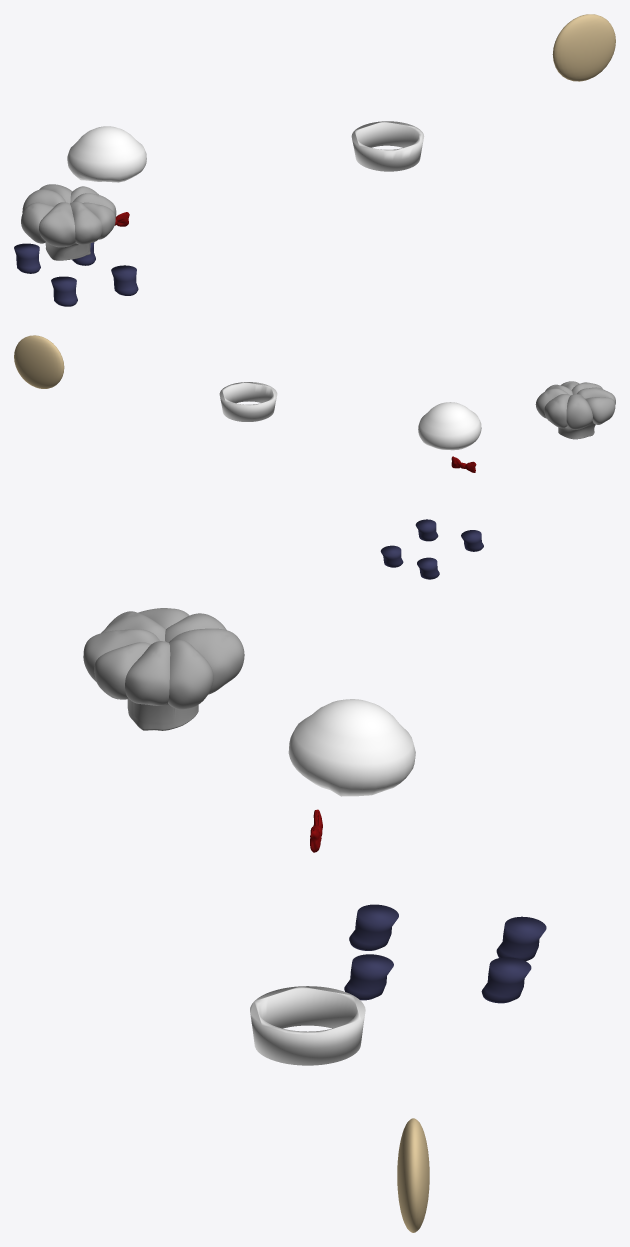
The model's file is Accessories.glb.
3 renders of one model, top to bottom at view 1: azimuth 30°, elevation 25°; view 2: azimuth 150°, elevation 25°; view 3: azimuth 270°, elevation 25°, orthographic. The views are drawn at different scales.
Visible parts, largest first — view 1: chefhat, mushroom, Spheredontdelete, crownWIP, boot 2, boot 3, boot 1; view 2: chefhat, mushroom, Spheredontdelete, crownWIP, boot 2, boot 4, boot 3, boot 1; view 3: chefhat, mushroom, crownWIP, Spheredontdelete, boot 1, boot 4, boot 2, boot 3.
Part boxes in pixels (x1=…): chefhat: x1=21, y1=184, x2=116, y2=260; mushroom: x1=67, y1=126, x2=146, y2=182; Spheredontdelete: x1=552, y1=14, x2=615, y2=81; crownWIP: x1=351, y1=121, x2=424, y2=171; boot 2: x1=111, y1=265, x2=138, y2=295; boot 3: x1=14, y1=243, x2=40, y2=273; boot 1: x1=51, y1=276, x2=77, y2=306; chefhat: x1=535, y1=381, x2=615, y2=439; mushroom: x1=418, y1=402, x2=481, y2=450; Spheredontdelete: x1=14, y1=335, x2=64, y2=388; crownWIP: x1=219, y1=382, x2=277, y2=421; boot 2: x1=415, y1=519, x2=438, y2=541; boot 4: x1=380, y1=545, x2=403, y2=567; boot 3: x1=417, y1=557, x2=439, y2=579; boot 1: x1=461, y1=530, x2=483, y2=551; chefhat: x1=83, y1=608, x2=244, y2=730; mushroom: x1=288, y1=699, x2=415, y2=796; crownWIP: x1=250, y1=986, x2=365, y2=1065; Spheredontdelete: x1=397, y1=1118, x2=429, y2=1232; boot 1: x1=349, y1=904, x2=398, y2=950; boot 4: x1=481, y1=957, x2=531, y2=1003; boot 2: x1=344, y1=954, x2=393, y2=1000; boot 3: x1=496, y1=916, x2=546, y2=961.
Size of the model in its own units: 7.78 by 1.93 by 2.92.
